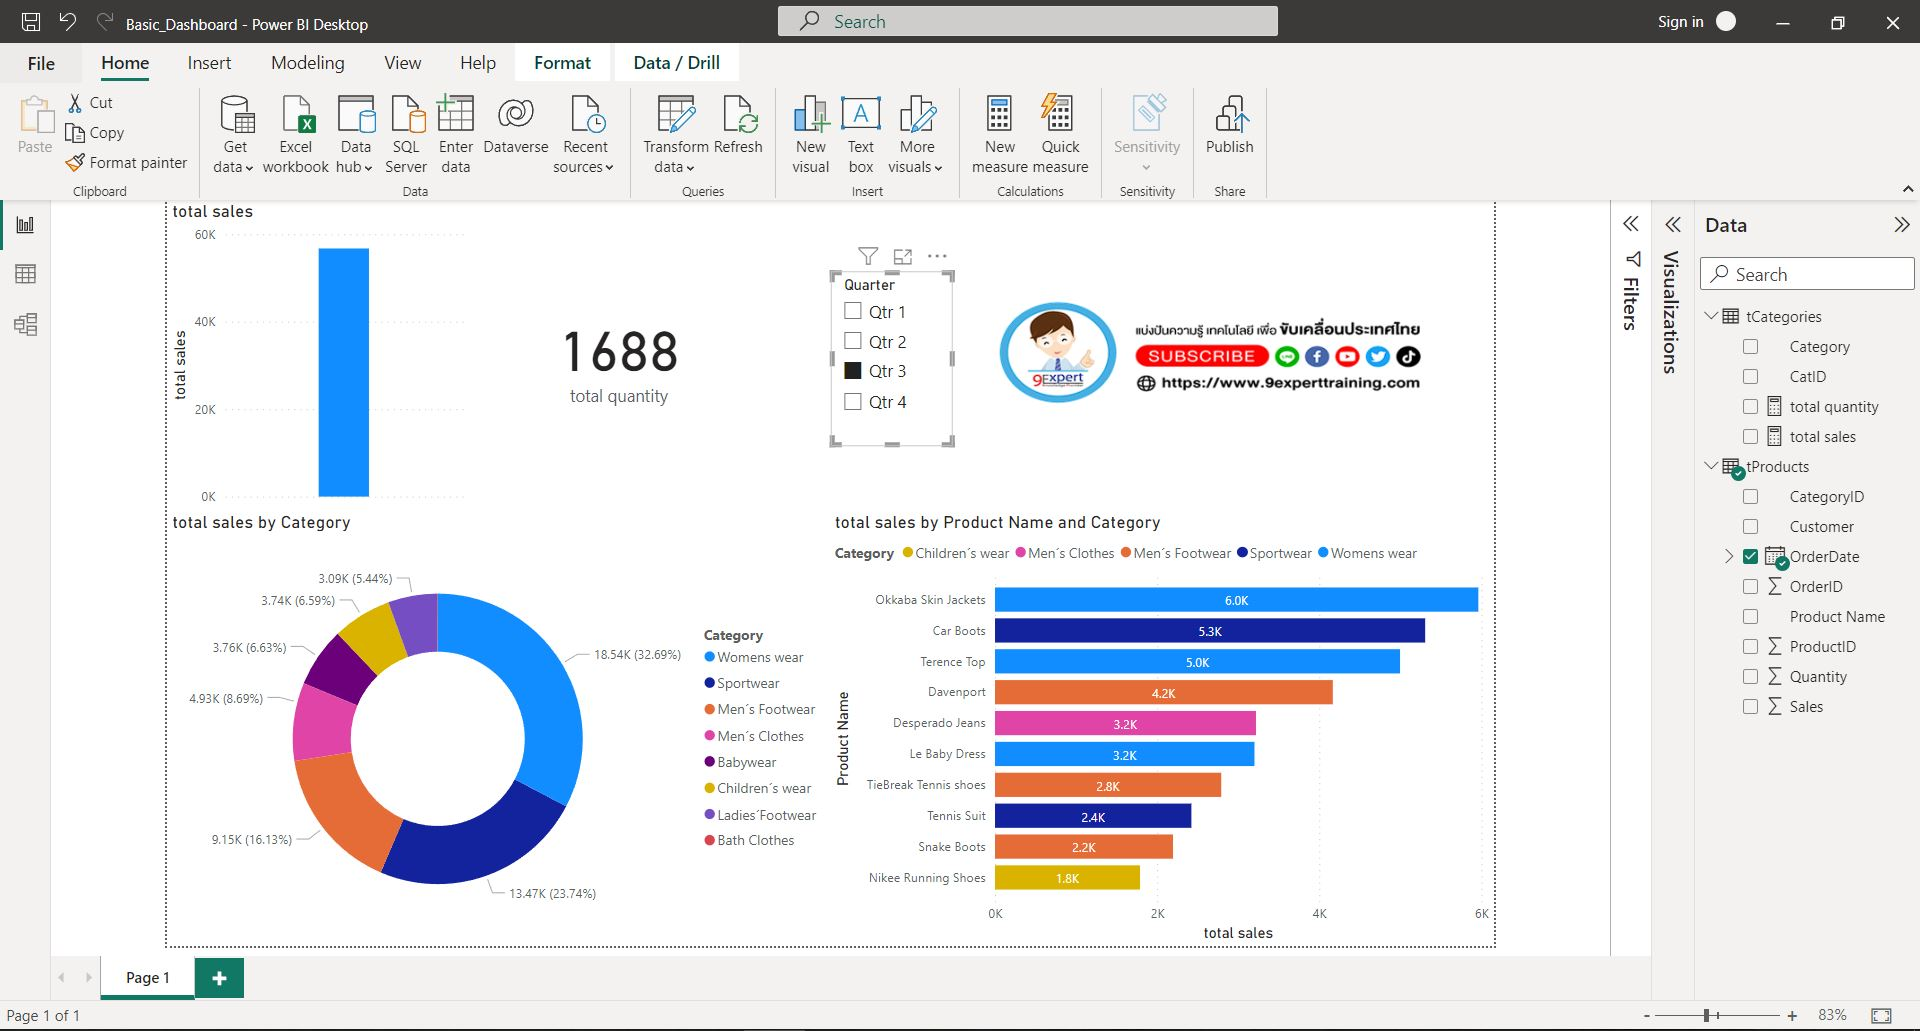

The page's visual inventory and layout, read from the dashboard file:
{"tool":"powerbi","page":{"name":"Page 1","canvas":[1280,720],"ordinal":0},"visuals":[{"type":"columnChart","fields":{"Y":["tCategories.total sales"]},"box":[0,0,291.9,300.3],"z":0},{"type":"card","fields":{"Values":["tCategories.total quantity"]},"box":[291.9,0,288.2,300.3],"z":1000},{"type":"donutChart","fields":{"Y":["tCategories.total sales"],"Category":["tCategories.Category"]},"box":[0,300.5,640.8,419.9],"z":2000},{"type":"slicer","fields":{"Values":["tProducts.OrderDate.Variation.Date Hierarchy.Quarter"]},"box":[640.8,68.6,118,168.8],"z":3000},{"type":"barChart","fields":{"Category":["tProducts.Product Name"],"Y":["tCategories.total sales"],"Series":["tCategories.Category"]},"box":[639.5,300.5,640.8,419.9],"z":4000},{"type":"image","box":[759,69,521,169],"z":5000}]}

Visuals, with their boxes on the page's 1280x720 design canvas (x1, y1, x2, y2). These are canvas units, not pixel positions in the 1920x1031 screenshot, which may show the page scaled, cropped or inside an application window:
columnChart - tCategories.total sales: bbox=(0, 0, 292, 300)
card - tCategories.total quantity: bbox=(292, 0, 580, 300)
donutChart - tCategories.total sales x tCategories.Category: bbox=(0, 300, 641, 720)
slicer - tProducts.OrderDate.Variation.Date Hierarchy.Quarter: bbox=(641, 69, 759, 237)
barChart - tProducts.Product Name x tCategories.total sales: bbox=(640, 300, 1280, 720)
image: bbox=(759, 69, 1280, 238)
